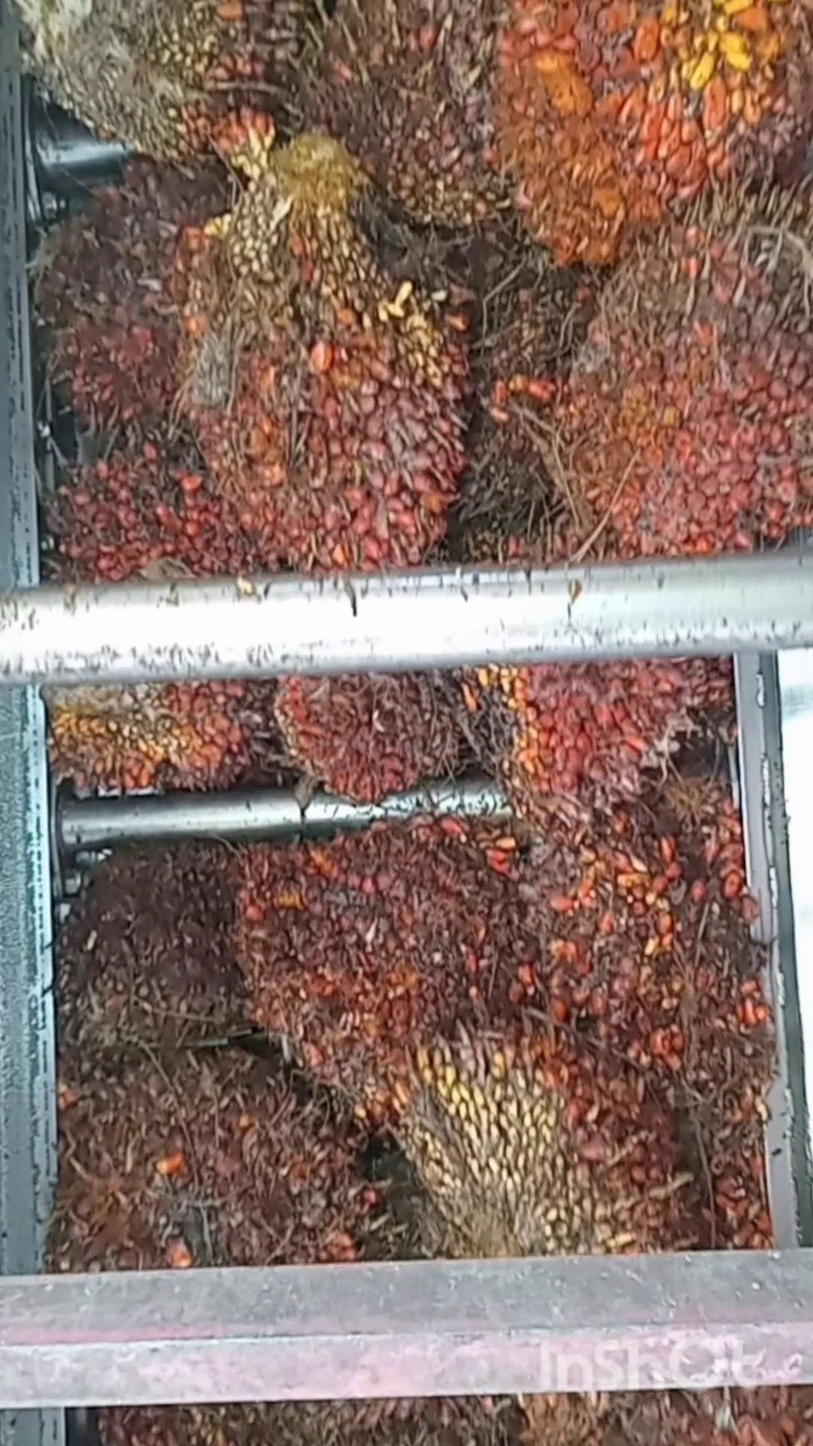Maduro: (180, 209, 468, 579), (548, 206, 813, 565), (490, 0, 813, 270), (395, 999, 709, 1260), (252, 806, 527, 1096), (48, 1029, 364, 1278), (40, 156, 234, 433), (278, 0, 502, 231), (514, 791, 722, 1038), (42, 3, 262, 170), (488, 662, 724, 814), (270, 674, 491, 813), (48, 452, 220, 579), (48, 684, 257, 787)
Verde: (53, 832, 267, 1073)
